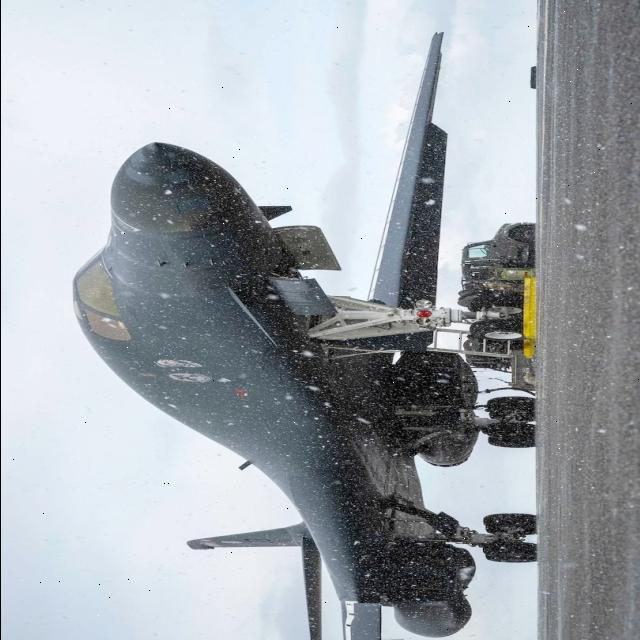B1: (29, 18, 540, 640)
